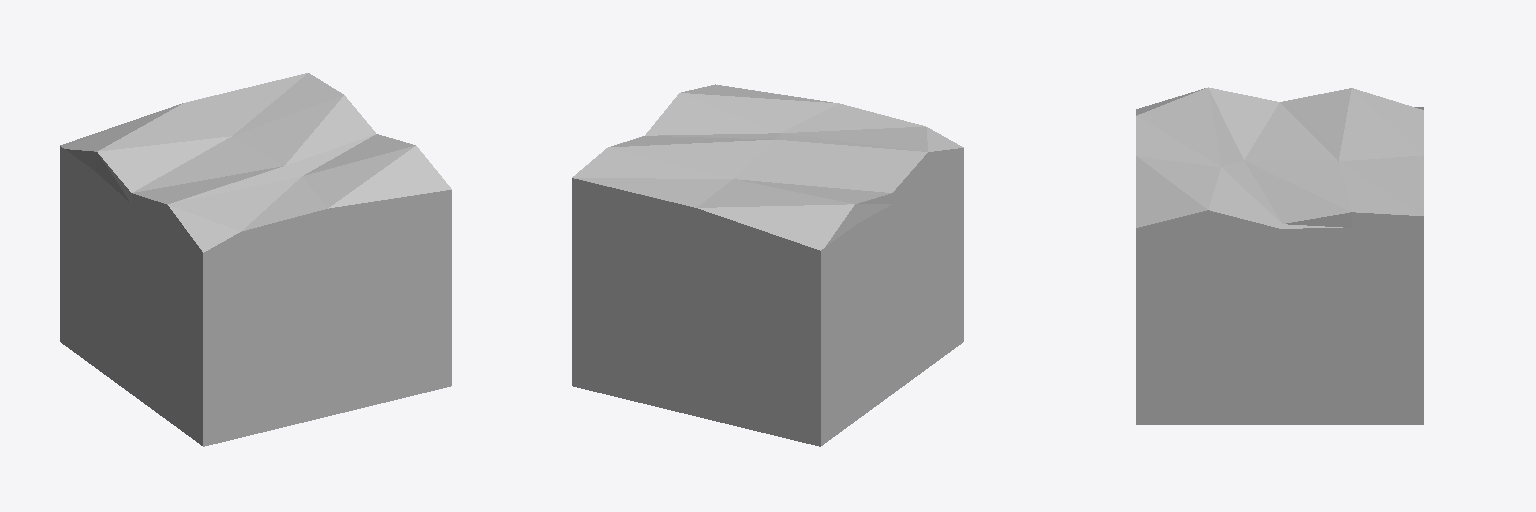
The model's file is grassW9.obj.
The picture shows the model from 3 angles: view 1: azimuth 30°, elevation 25°; view 2: azimuth 150°, elevation 25°; view 3: azimuth 270°, elevation 25°; orthographic projection.
Visible parts, largest first — view 1: Cube; view 2: Cube; view 3: Cube.
Boxes of the visible parts, box(x1,y1,x2,y2) form: Cube: box(60, 73, 451, 446); Cube: box(572, 84, 963, 446); Cube: box(1136, 87, 1423, 424).
Bounding box in the file's own units: 159 × 132 × 159.